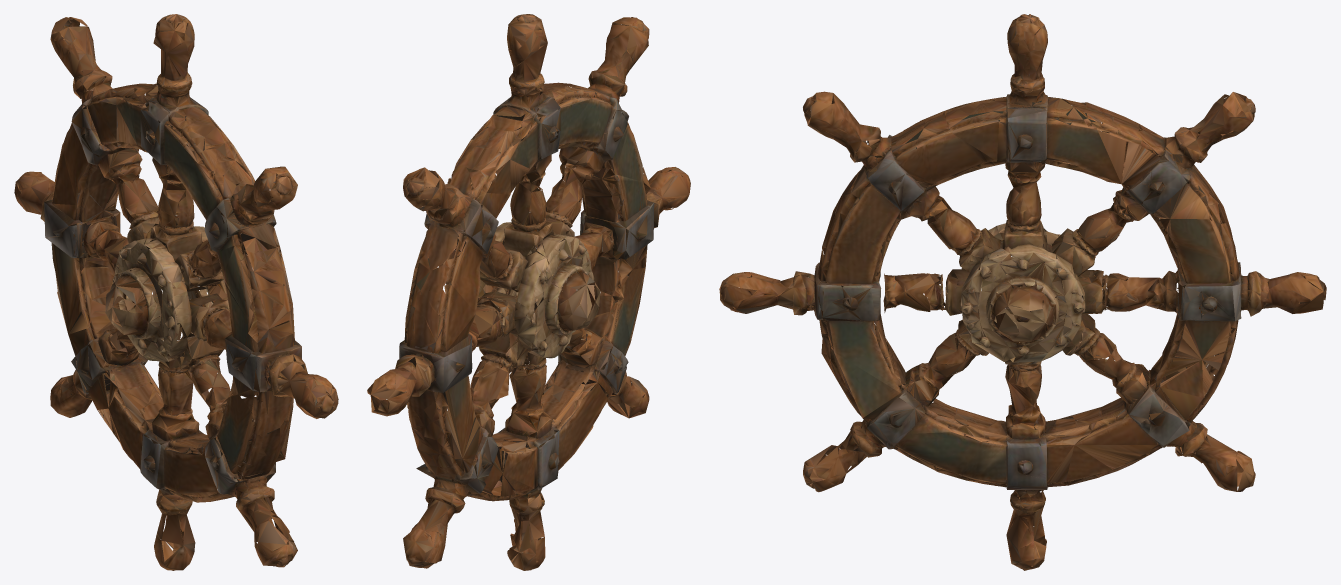
The model's file is ships-wheel.glb.
3 views of the same model, side by side, from view 1: azimuth 30°, elevation 25°; view 2: azimuth 150°, elevation 25°; view 3: azimuth 270°, elevation 25° (orthographic).
Visible parts, largest first — view 1: ships-wheel; view 2: ships-wheel; view 3: ships-wheel.
Boxes of the visible parts, left/top/right/bottom form: ships-wheel: left=14, top=14, right=338, bottom=570; ships-wheel: left=367, top=14, right=690, bottom=570; ships-wheel: left=719, top=14, right=1326, bottom=570.
Bounding box in the file's own units: 0.7049 × 2.81 × 2.8.
1 material, 1 textured.
